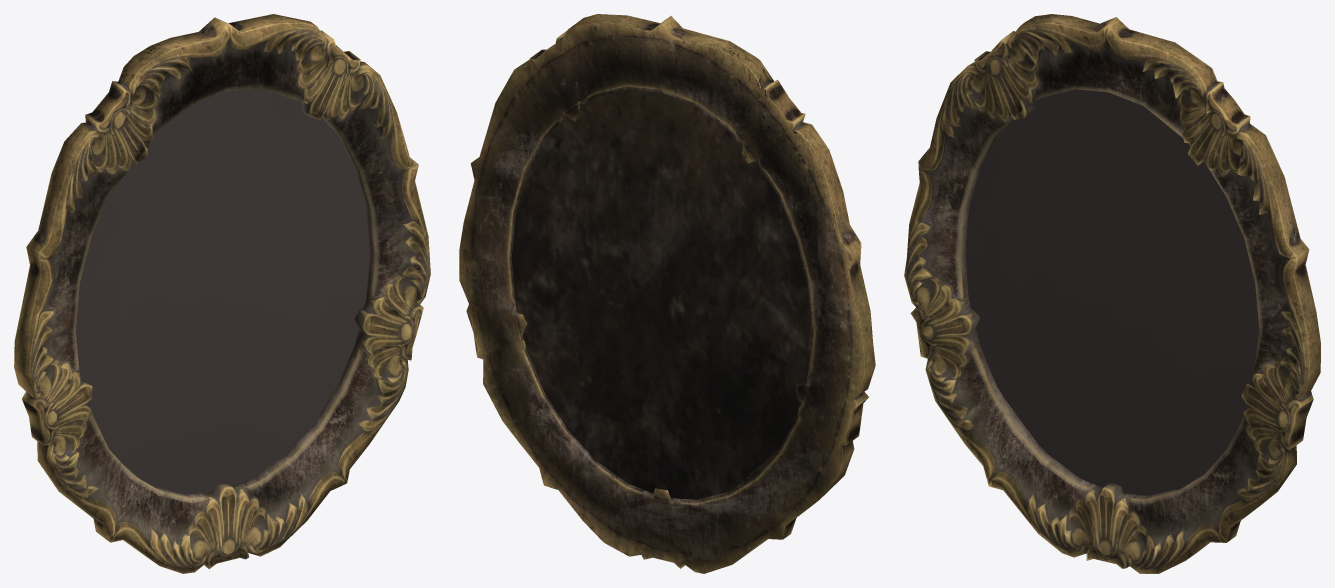
The model's file is frame02.glb.
The picture shows the model from 3 angles, left to right: view 1: azimuth 30°, elevation 25°; view 2: azimuth 150°, elevation 25°; view 3: azimuth 330°, elevation 25°; orthographic projection.
Visible parts, largest first — view 1: Round Frame_Round Frame_0; view 2: Round Frame_Round Frame_0; view 3: Round Frame_Round Frame_0.
Boxes of the visible parts, left/top/right/bottom form: Round Frame_Round Frame_0: left=14, top=14, right=430, bottom=573; Round Frame_Round Frame_0: left=459, top=14, right=875, bottom=573; Round Frame_Round Frame_0: left=904, top=14, right=1320, bottom=573.
Bounding box in the file's own units: 0.2353 × 0.2994 × 0.0163.
1 material, 1 textured.
